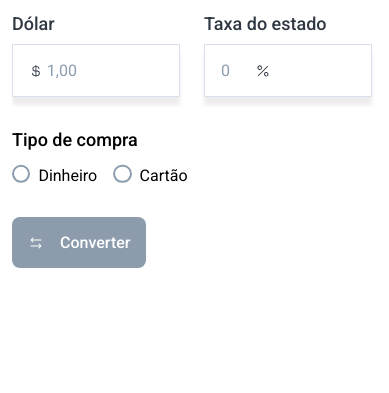
Test: Form Component › should display an error for invalid amount dollar
In the number field labelled "Dólar": (105, 70) [47,61,163,80], type "0"
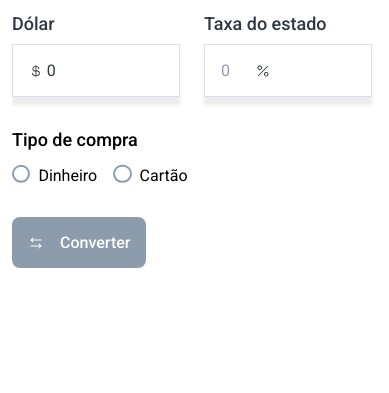
Click the button "Converter": (79, 242) [12,217,146,268]
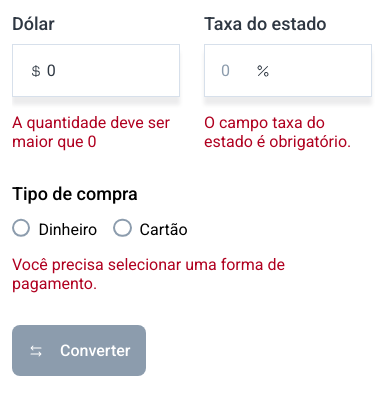
Check: the text "A quantidade deve ser maior que 0" is shown, box [12,113,180,151]
